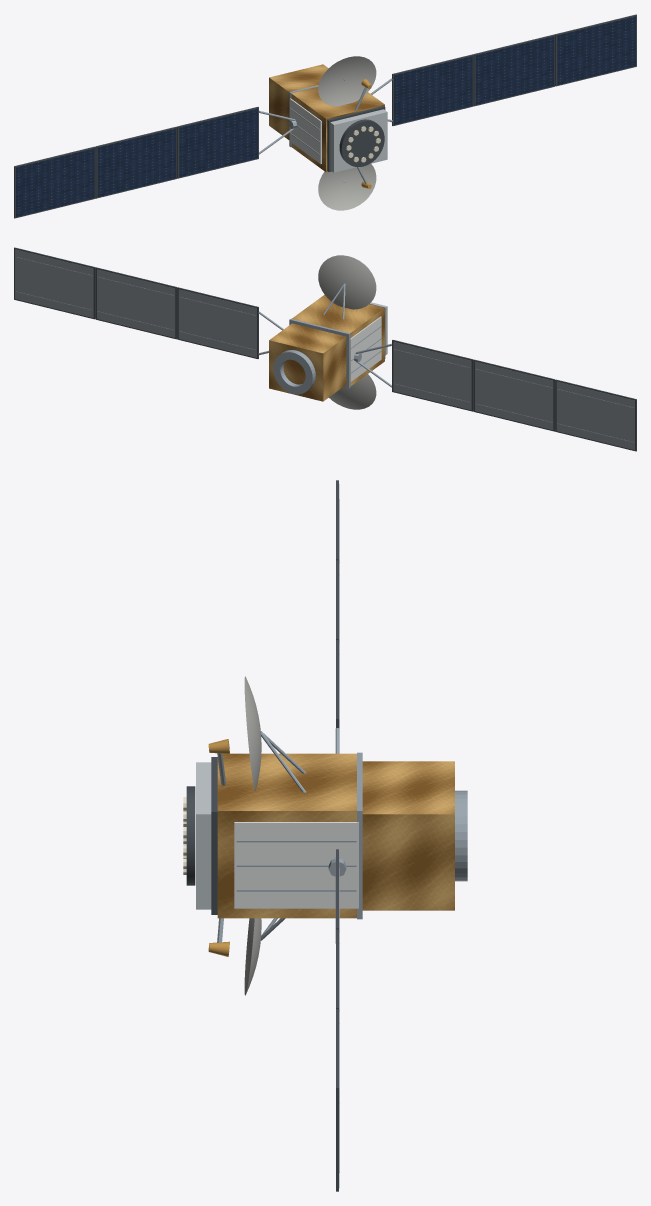
The model's file is beidou-3.glb.
The picture shows the model from 3 angles, top to bottom: view 1: azimuth 30°, elevation 25°; view 2: azimuth 150°, elevation 25°; view 3: azimuth 270°, elevation 25°; orthographic projection. The views are drawn at different scales.
Visible parts, largest first — view 1: Solar cell panel (×6), Communications reflector (×2), Solar panel frame (×6), Service module, Payload module, Planar antenna aperture, Antenna equipment shelf, Radiator face, Earth-facing deck; view 2: Rear array substrate (×6), Service module, Communications reflector (×2), Solar panel frame (×6), Payload module, Radiator face, Launch adapter ring, Module interface; view 3: Service module, Payload module, Radiator face, Antenna equipment shelf, Launch adapter ring, Communications reflector, Earth-facing deck, Planar antenna aperture.
Part boxes in pixels (x1=…): Solar cell panel (×6): x1=16, y1=16, x2=635, y2=217; Communications reflector (×2): x1=318, y1=56, x2=376, y2=210; Solar panel frame (×6): x1=14, y1=14, x2=636, y2=218; Service module: x1=269, y1=64, x2=328, y2=139; Payload module: x1=291, y1=87, x2=384, y2=172; Planar antenna aperture: x1=339, y1=119, x2=384, y2=166; Antenna equipment shelf: x1=330, y1=109, x2=387, y2=172; Radiator face: x1=289, y1=98, x2=321, y2=163; Earth-facing deck: x1=327, y1=106, x2=385, y2=171; Rear array substrate (×6): x1=15, y1=249, x2=634, y2=450; Service module: x1=269, y1=323, x2=346, y2=401; Communications reflector (×2): x1=318, y1=255, x2=376, y2=409; Solar panel frame (×6): x1=14, y1=247, x2=636, y2=451; Payload module: x1=292, y1=294, x2=384, y2=385; Radiator face: x1=350, y1=316, x2=381, y2=382; Launch adapter ring: x1=273, y1=350, x2=315, y2=394; Module interface: x1=289, y1=318, x2=350, y2=388; Service module: x1=362, y1=761, x2=454, y2=910; Payload module: x1=217, y1=753, x2=356, y2=918; Radiator face: x1=234, y1=822, x2=358, y2=908; Antenna equipment shelf: x1=196, y1=762, x2=211, y2=909; Launch adapter ring: x1=455, y1=790, x2=467, y2=881; Communications reflector: x1=244, y1=676, x2=261, y2=791; Earth-facing deck: x1=211, y1=757, x2=217, y2=914; Planar antenna aperture: x1=186, y1=786, x2=195, y2=885.
Bounding box in the file's own units: 17.98 × 4.21 × 3.55.
10 materials, 2 textured.
